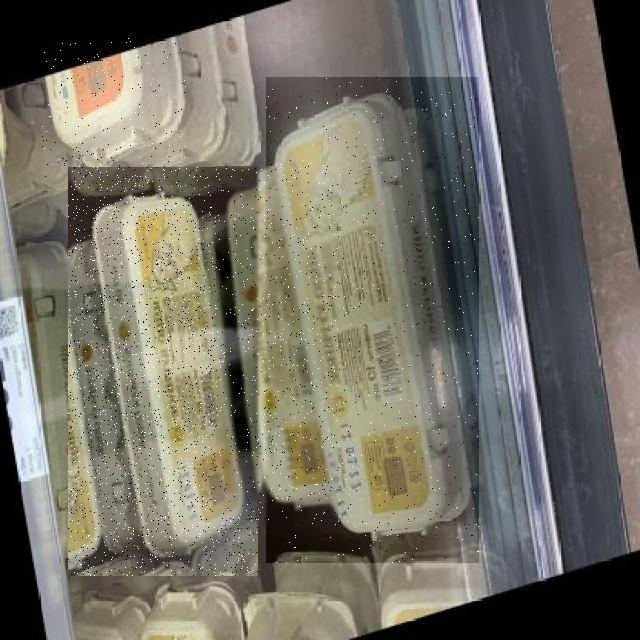Eggs: (266, 77, 479, 563), (68, 167, 258, 576), (216, 166, 338, 525), (42, 38, 186, 180)
